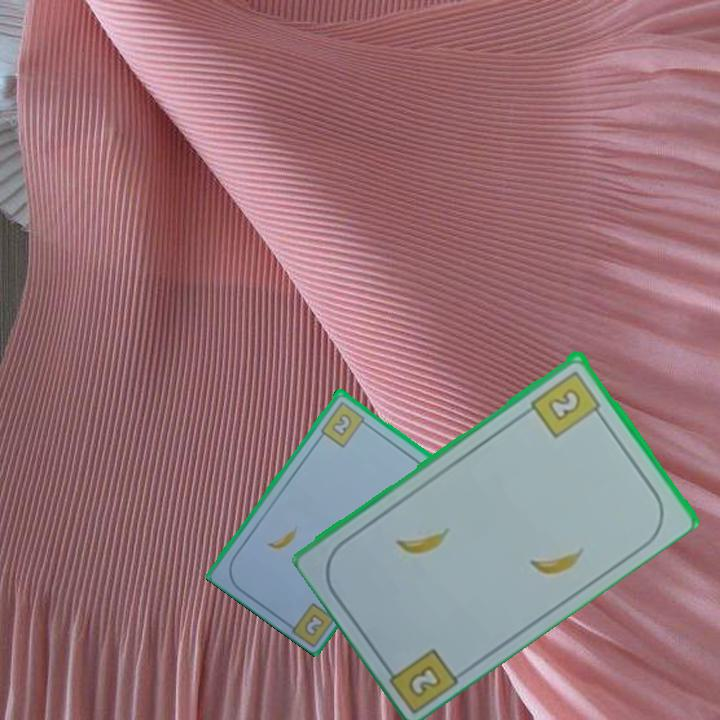2b: (527, 366, 606, 440), (317, 397, 371, 450), (407, 660, 445, 697), (300, 610, 327, 639)
